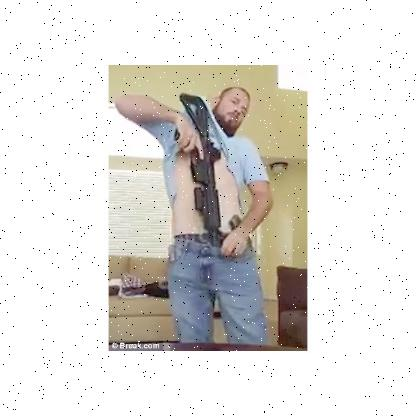gun: (173, 86, 225, 254)
